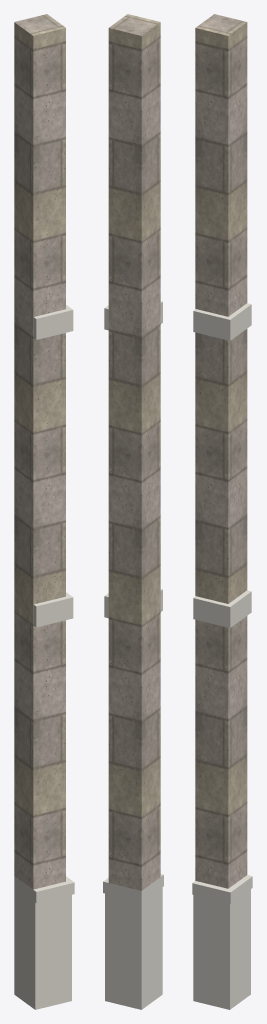
File: corner_b.glb
The picture shows the model from 3 angles, left to right: view 1: azimuth 30°, elevation 25°; view 2: azimuth 150°, elevation 25°; view 3: azimuth 330°, elevation 25°; orthographic projection.
Parts seen in each view (by area): view 1: corner_b_grey, corner_b_lime; view 2: corner_b_grey, corner_b_lime; view 3: corner_b_grey, corner_b_lime.
Boxes of the visible parts, left/top/right/bottom form: corner_b_grey: left=14, top=14, right=65, bottom=889; corner_b_lime: left=14, top=305, right=74, bottom=1009; corner_b_grey: left=108, top=14, right=160, bottom=890; corner_b_lime: left=103, top=301, right=163, bottom=1009; corner_b_grey: left=195, top=14, right=247, bottom=888; corner_b_lime: left=192, top=303, right=252, bottom=1009.
Size of the model in its own units: 0.42 by 10.15 by 0.42.
Materials: 2 (1 with a texture image).
